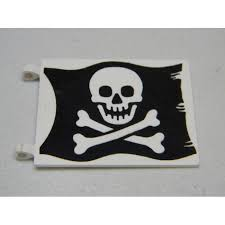Jolly Roger Flag: (42, 65, 196, 161)
